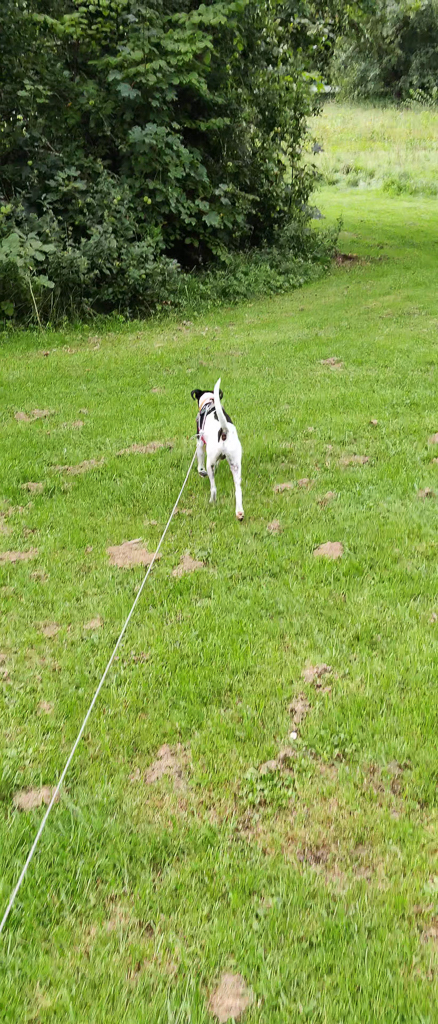Dog: (171, 362, 265, 532)
